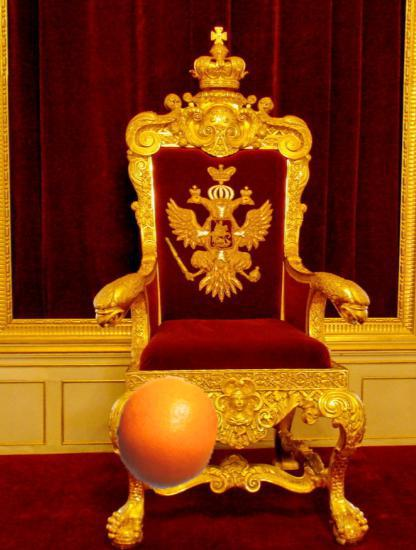Grapefruit: (110, 376, 223, 489)
